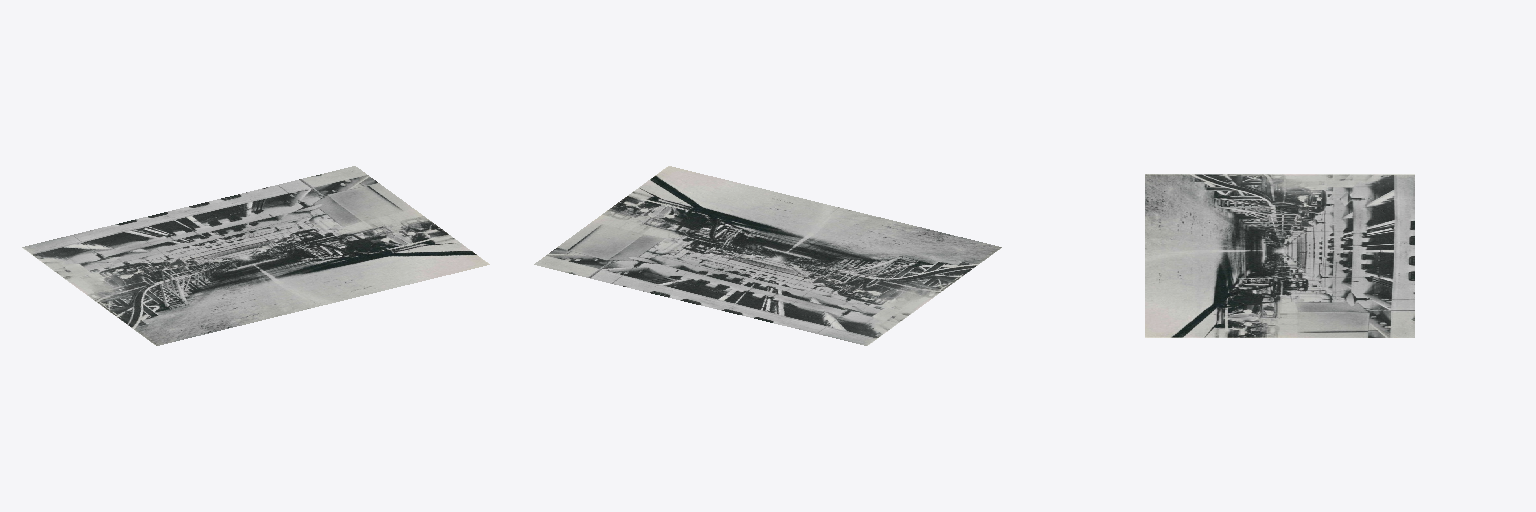
The picture shows the model from 3 angles: view 1: azimuth 30°, elevation 25°; view 2: azimuth 150°, elevation 25°; view 3: azimuth 270°, elevation 25°; orthographic projection.
Parts seen in each view (by area): view 1: Plane001; view 2: Plane001; view 3: Plane001.
Part boxes in pixels (x1,y1,x2,y2): Plane001: (22, 166, 489, 345); Plane001: (534, 166, 1001, 345); Plane001: (1145, 174, 1414, 337).
Bounding box in the file's own units: 2.34 × 0 × 1.64.
1 materials, 1 textured.